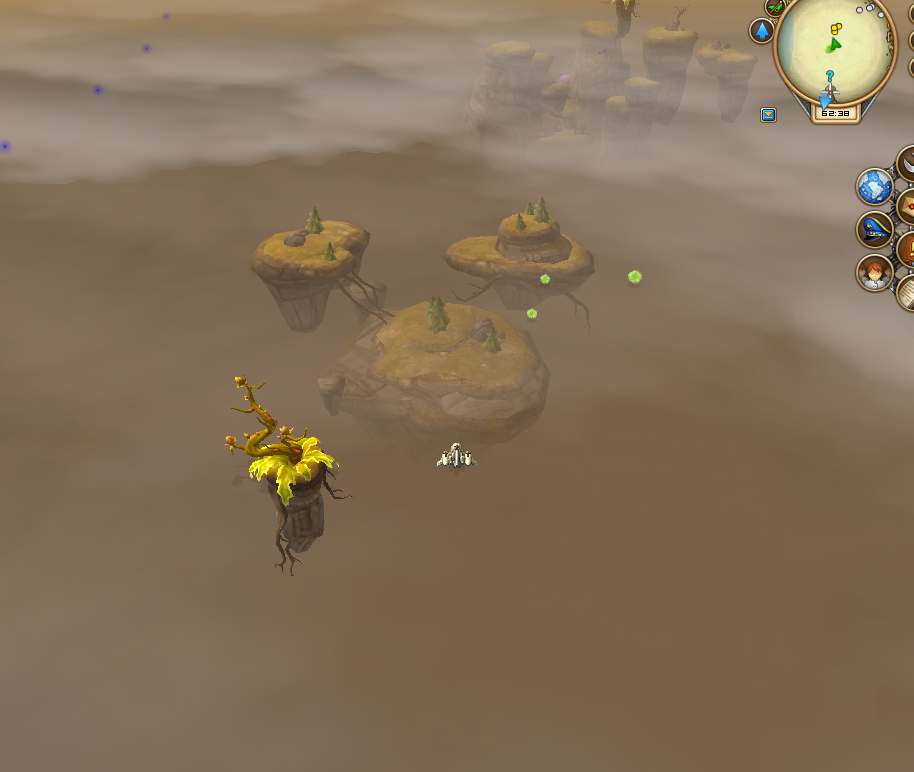dandelion-empty: (213, 361, 361, 534)
fluff: (613, 261, 651, 293), (514, 294, 547, 327), (530, 262, 556, 292)
